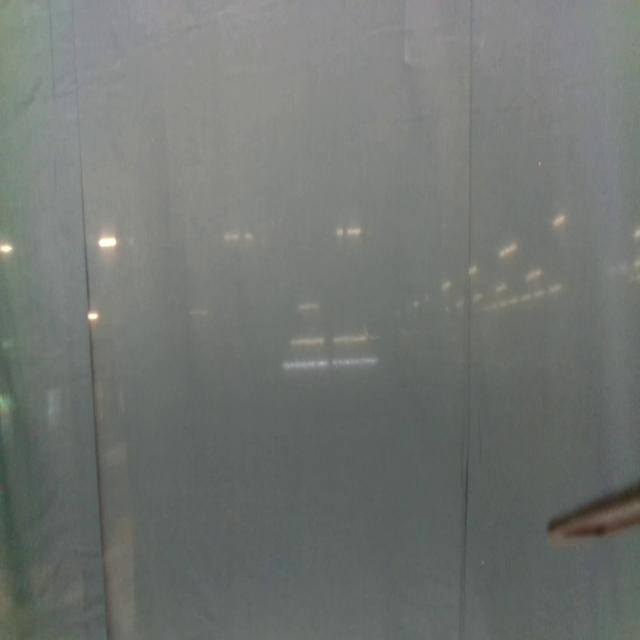crease: (72, 0, 109, 640), (459, 2, 474, 640)
